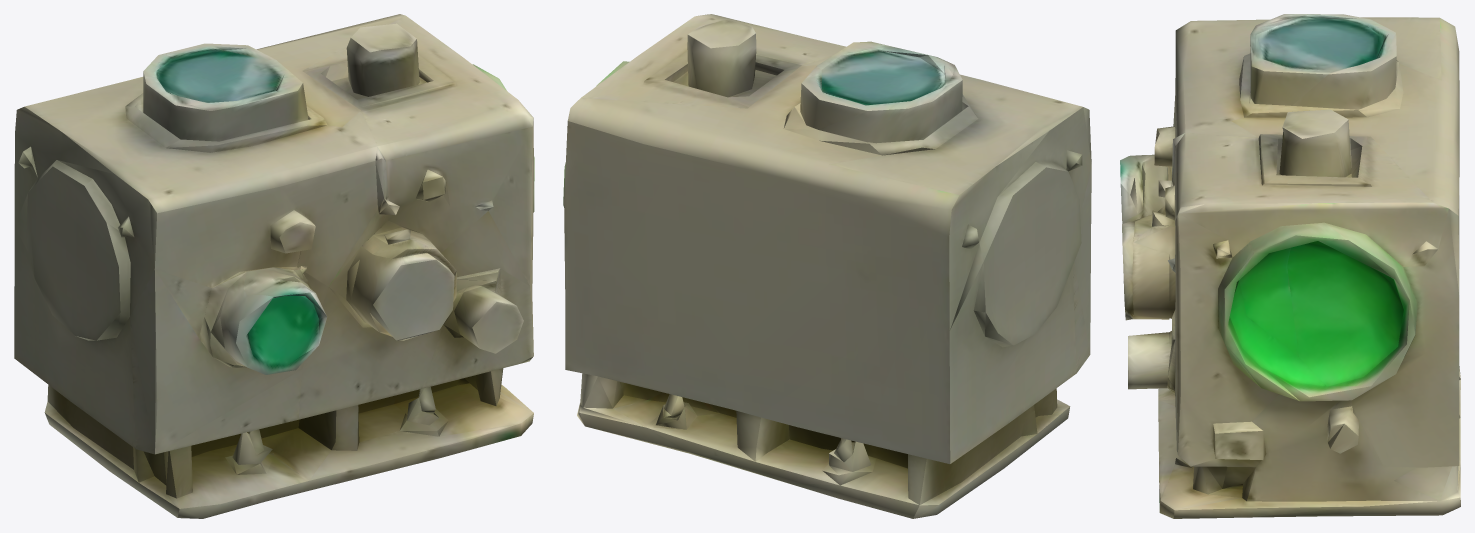
The model's file is filterMachineV3.glb.
The picture shows the model from 3 angles, left to right: view 1: azimuth 30°, elevation 25°; view 2: azimuth 150°, elevation 25°; view 3: azimuth 270°, elevation 25°; orthographic projection.
Visible parts, largest first — view 1: model; view 2: model; view 3: model.
Part boxes in pixels (x1,y1,x2,y2): model: (14, 14, 534, 518); model: (563, 14, 1091, 518); model: (1120, 14, 1460, 518).
Size of the model in its own units: 1.89 by 1.53 by 1.28.
Materials: 1 (1 with a texture image).
